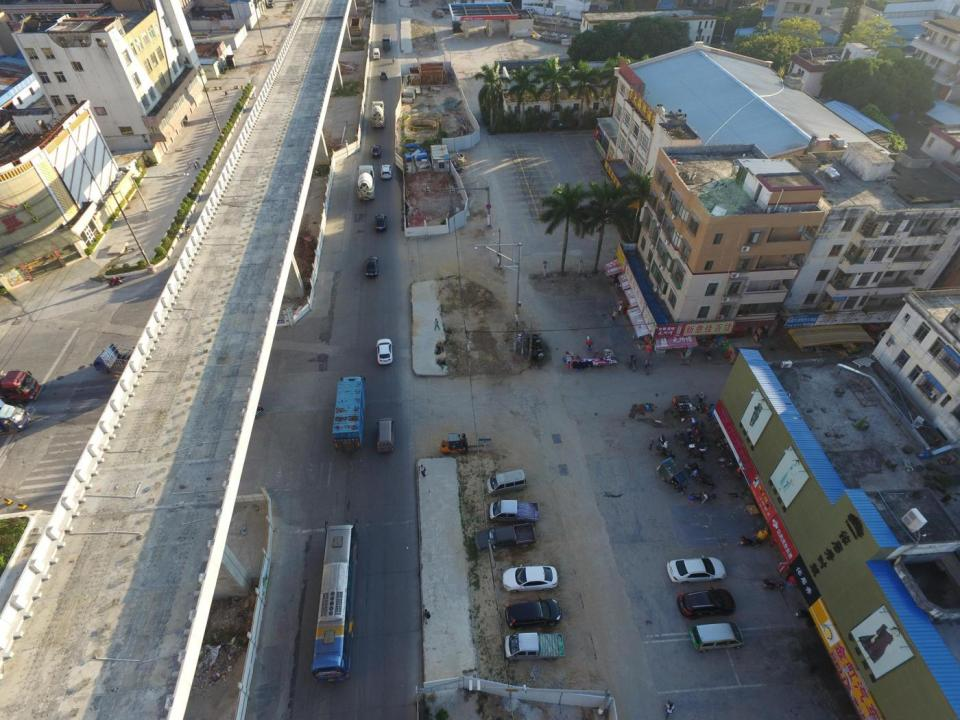bus: (310, 518, 359, 685)
car: (677, 586, 736, 619), (504, 598, 562, 631), (666, 554, 727, 584), (501, 564, 558, 593), (376, 337, 393, 366), (364, 256, 377, 277), (374, 214, 387, 233), (380, 164, 392, 182), (371, 144, 382, 159), (380, 69, 388, 80)
truck: (332, 374, 368, 452), (476, 522, 537, 552), (505, 631, 564, 662), (0, 369, 43, 402), (488, 498, 540, 525), (0, 399, 33, 430), (358, 163, 376, 202), (370, 99, 385, 130), (382, 33, 392, 50)
van: (690, 619, 746, 653), (486, 468, 527, 497), (376, 416, 397, 456), (373, 47, 380, 60), (524, 7, 535, 14), (562, 11, 573, 18)
